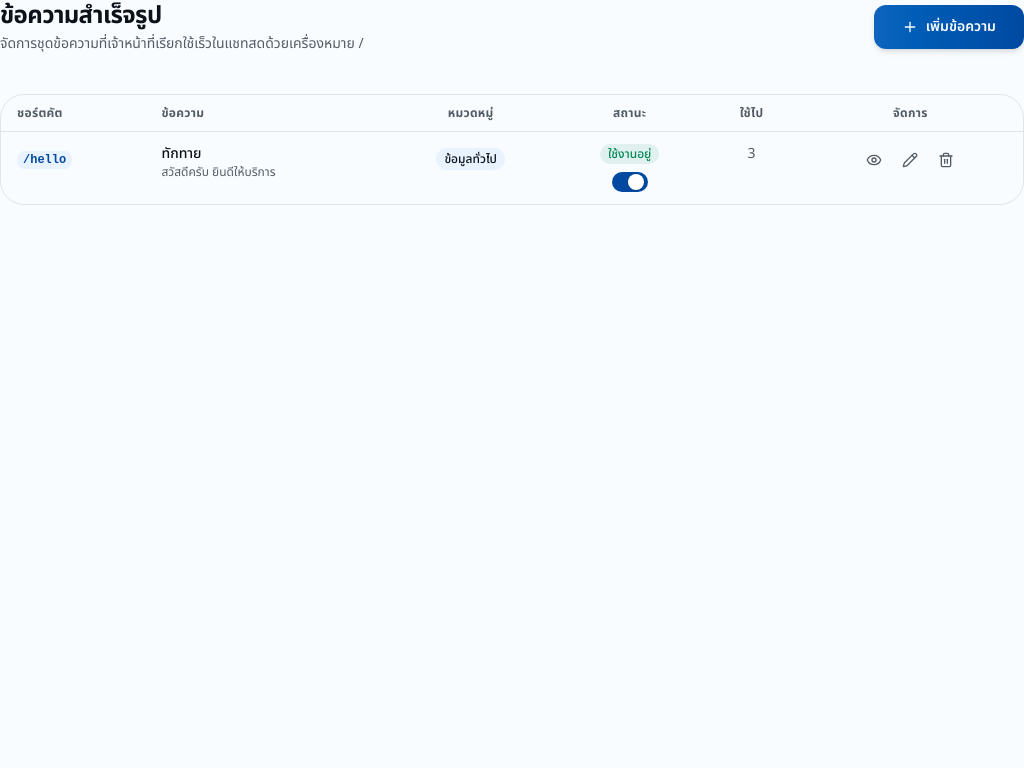
Test case: CannedResponsesClient ตาราง JSK › ลบแล้ว reload ลิสต์
Check: the text "ทักทาย" is shown, box top-left (162, 143), bottom-right (202, 164)
Click the button named "ลบ ทักทาย": (946, 160) top-left (930, 144), bottom-right (962, 176)
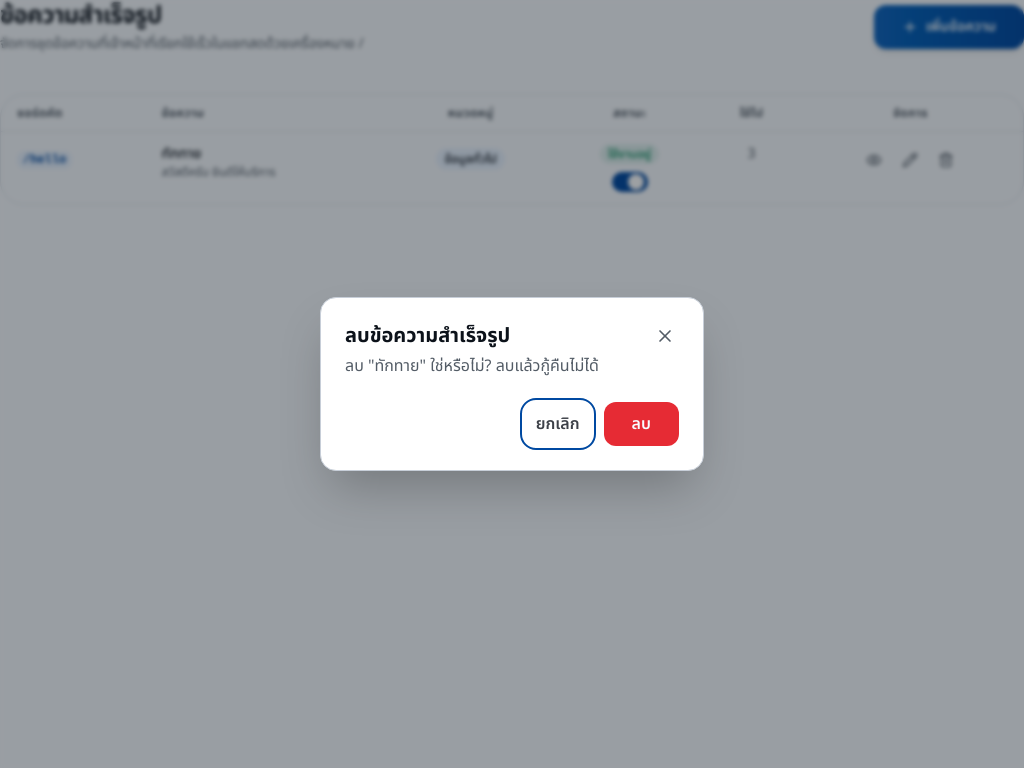
Check: the heading "ลบข้อความสำเร็จรูป" is shown, box top-left (345, 321), bottom-right (510, 351)
Click the button "ลบ": (641, 424) top-left (604, 402), bottom-right (679, 446)
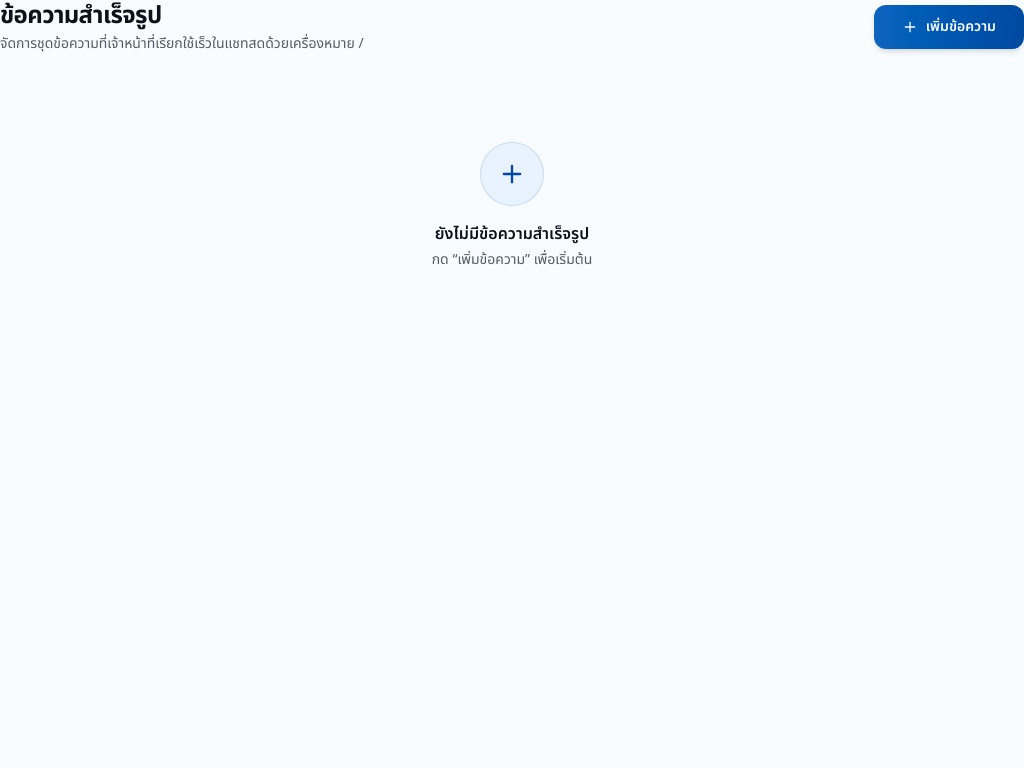
Check: the text "ยังไม่มีข้อความสำเร็จรูป" is shown, box top-left (435, 222), bottom-right (589, 246)
